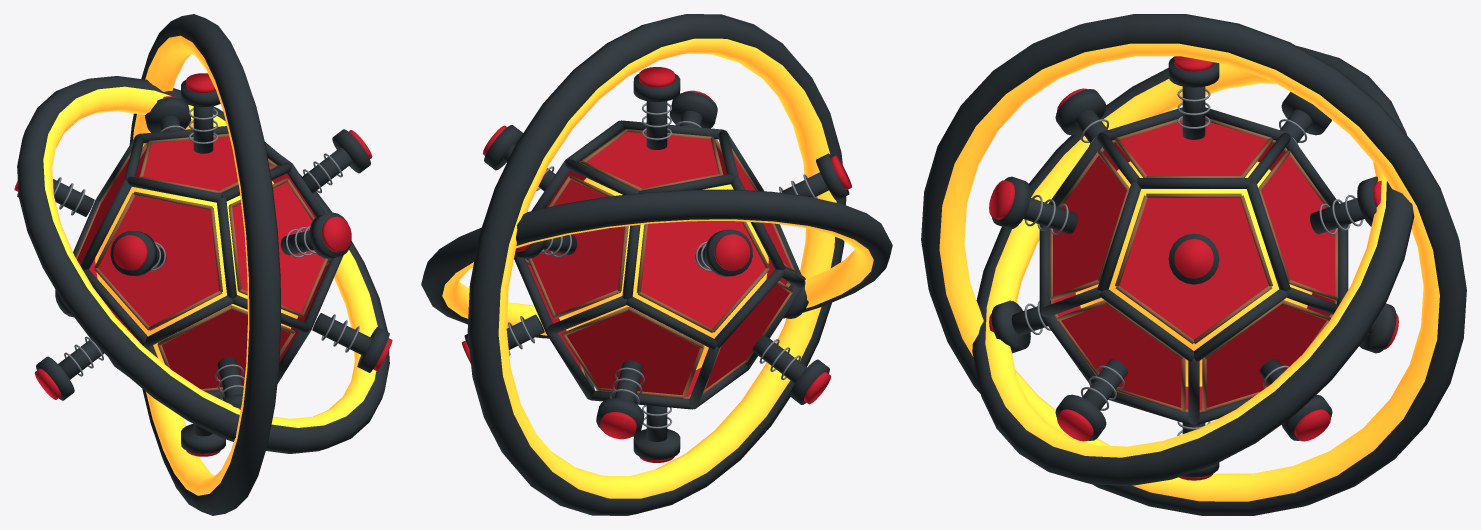
File: boss.glb
The picture shows the model from 3 angles, left to right: view 1: azimuth 30°, elevation 25°; view 2: azimuth 150°, elevation 25°; view 3: azimuth 270°, elevation 25°; orthographic projection. The views are drawn at different scales.
Visible parts, largest first — view 1: body_ruby.002, body_armor.001, orbit1_armor, orbit0_armor, orbit0_amber, orbit1_amber, body_copper.006, body_ruby.003, nucleus_amber.001, body_steel.049; view 2: body_ruby.002, body_armor.001, orbit1_armor, orbit1_amber, orbit0_armor, body_copper.006, orbit0_amber, body_ruby.003, nucleus_amber.001, body_steel.049; view 3: body_ruby.002, orbit1_armor, body_armor.001, orbit1_amber, orbit0_armor, orbit0_amber, body_copper.006, body_ruby.003, nucleus_amber.001, body_steel.049.
Boxes of the visible parts, x1=… form: body_ruby.002: x1=77, y1=136, x2=328, y2=389; body_armor.001: x1=17, y1=80, x2=389, y2=453; orbit1_armor: x1=129, y1=14, x2=281, y2=515; orbit0_armor: x1=17, y1=76, x2=389, y2=453; orbit0_amber: x1=43, y1=86, x2=377, y2=427; orbit1_amber: x1=133, y1=35, x2=249, y2=495; body_copper.006: x1=75, y1=133, x2=330, y2=391; body_ruby.003: x1=14, y1=73, x2=392, y2=456; nucleus_amber.001: x1=95, y1=181, x2=298, y2=363; body_steel.049: x1=53, y1=108, x2=359, y2=400; body_ruby.002: x1=527, y1=132, x2=791, y2=396; body_armor.001: x1=464, y1=74, x2=849, y2=459; orbit1_armor: x1=467, y1=14, x2=846, y2=515; orbit1_amber: x1=498, y1=38, x2=836, y2=498; orbit0_armor: x1=421, y1=189, x2=892, y2=338; body_copper.006: x1=525, y1=129, x2=795, y2=398; orbit0_amber: x1=442, y1=219, x2=873, y2=335; body_ruby.003: x1=462, y1=67, x2=851, y2=462; nucleus_amber.001: x1=559, y1=177, x2=768, y2=369; body_steel.049: x1=508, y1=103, x2=817, y2=428; body_ruby.002: x1=1053, y1=121, x2=1334, y2=409; orbit1_armor: x1=921, y1=14, x2=1466, y2=515; body_armor.001: x1=991, y1=56, x2=1396, y2=477; orbit1_amber: x1=939, y1=43, x2=1439, y2=501; orbit0_armor: x1=972, y1=46, x2=1414, y2=485; orbit0_amber: x1=985, y1=63, x2=1386, y2=457; body_copper.006: x1=1049, y1=118, x2=1338, y2=412; body_ruby.003: x1=989, y1=56, x2=1398, y2=480; nucleus_amber.001: x1=1075, y1=161, x2=1312, y2=386; body_steel.049: x1=1024, y1=89, x2=1363, y2=435.
Size of the model in its own units: 1.1 by 1.31 by 1.27.
